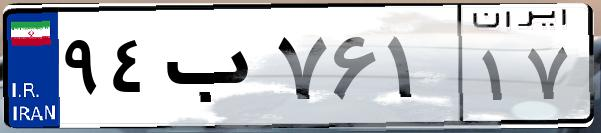1: (385, 28, 445, 110), (475, 38, 525, 113)
4: (110, 28, 158, 98)
6: (330, 28, 385, 110)
7: (270, 28, 330, 110), (525, 38, 570, 115)
9: (57, 26, 110, 100)
ب: (158, 20, 270, 120)
